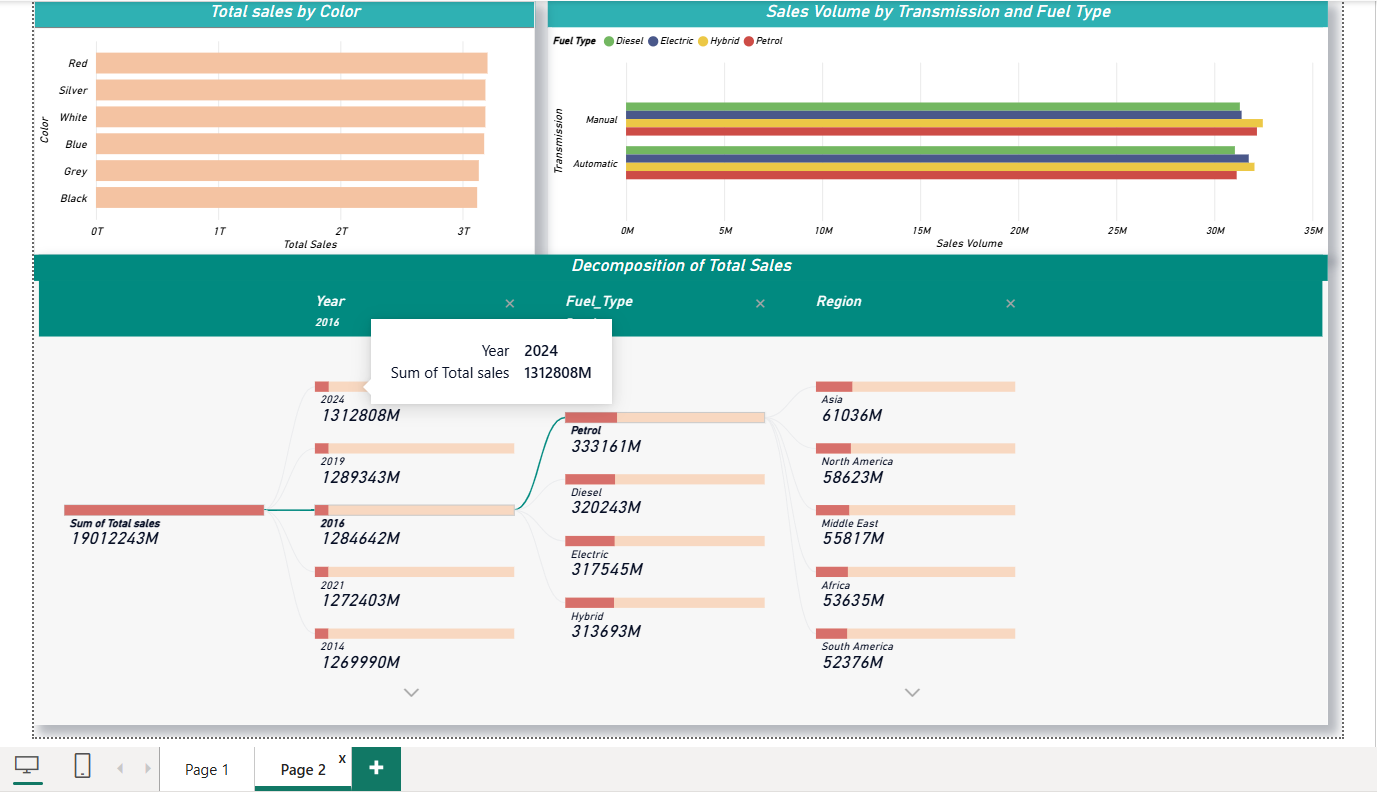

The page's visual inventory and layout, read from the dashboard file:
{"tool":"powerbi","page":{"name":"Page 2","canvas":[1280,720],"ordinal":1},"visuals":[{"type":"clusteredBarChart","title":"Sales Volume by Transmission and Fuel Type","fields":{"Category":["dimTransmission.Transmission"],"Y":["Sum(Fact table (2).Sales_Volume)"],"Series":["dim Fuel type_Id.Fuel_Type"]},"box":[502.5,0,763.1,248.2],"z":0},{"type":"barChart","title":"Total sales by Color","fields":{"Category":["dim Color_Id.Color"],"Y":["Sum(Fact table (2).Total sales)"]},"box":[0,0,490.1,248.2],"z":1000},{"type":"decompositionTreeVisual","title":"Decomposition of Total Sales","fields":{"Analyze":["Sum(Fact table (2).Total sales)"],"ExplainBy":["Fact table (2).Year","dim Fuel type_Id.Fuel_Type","dimRegion.Region"]},"box":[0,248.2,1265.6,460.3],"z":2000}]}

Visuals, with their boxes in screenshot pixels (x1, y1, x2, y2):
"Sales Volume by Transmission and Fuel Type" clusteredBarChart: 543, 0, 1324, 250
"Total sales by Color" barChart: 29, 0, 530, 250
"Decomposition of Total Sales" decompositionTreeVisual: 29, 250, 1324, 721
